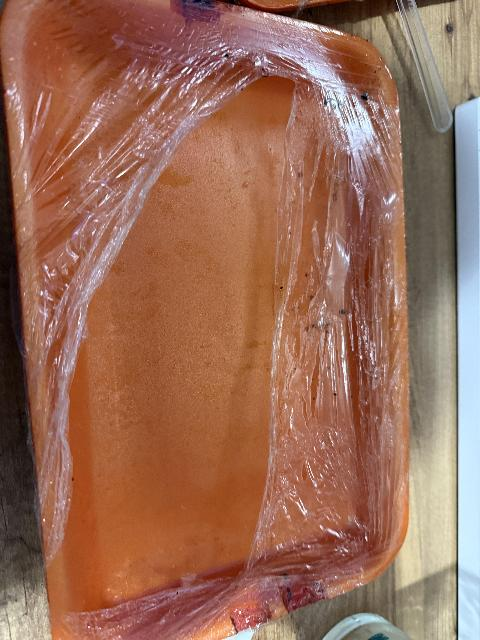Plastik: (0, 0, 398, 622)
